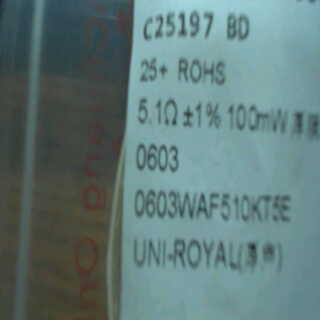5.1R: (136, 94, 180, 130)
